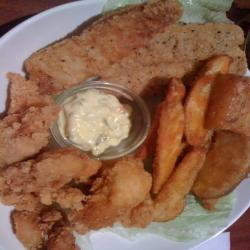fries: (149, 79, 242, 217)
